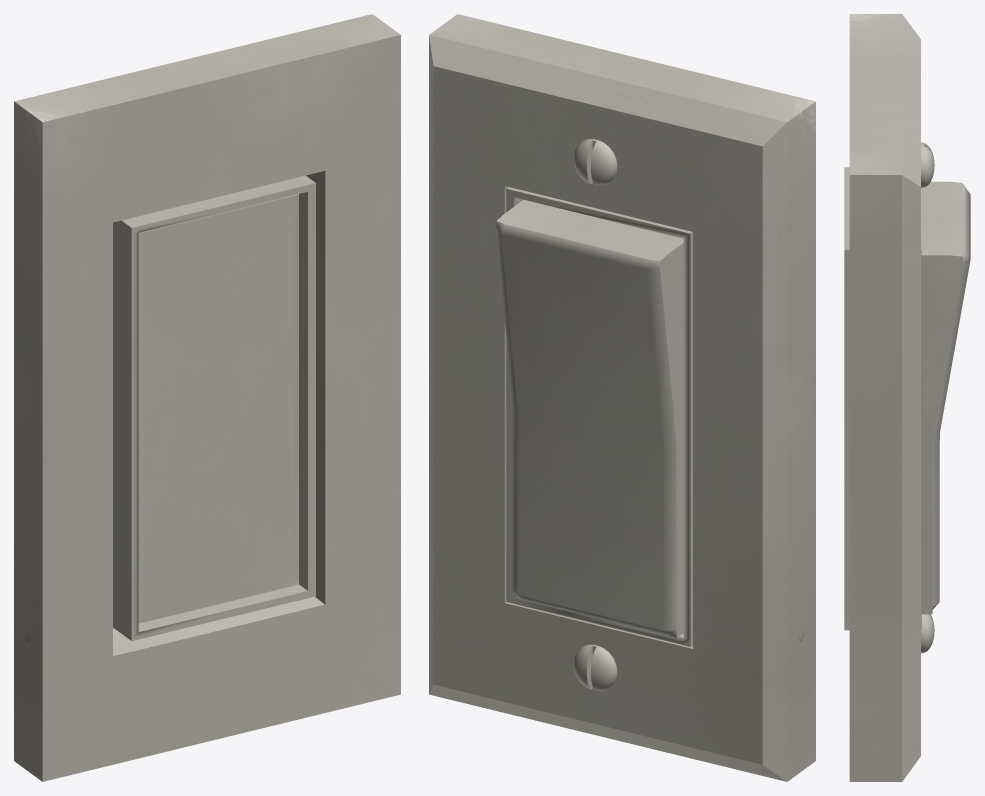
Rendered from Switch2.fbx.
3 views of the same model, side by side, from view 1: azimuth 30°, elevation 25°; view 2: azimuth 150°, elevation 25°; view 3: azimuth 270°, elevation 25° (orthographic). The views are drawn at different scales.
Visible parts, largest first — view 1: polySurface1007; view 2: polySurface1007; view 3: polySurface1007.
Boxes of the visible parts, x1,y1,x2,y2 form: polySurface1007: (14, 14, 400, 781); polySurface1007: (429, 14, 815, 781); polySurface1007: (844, 14, 970, 781).
Bounding box in the file's own units: 0.108 × 0.1901 × 0.0358.
